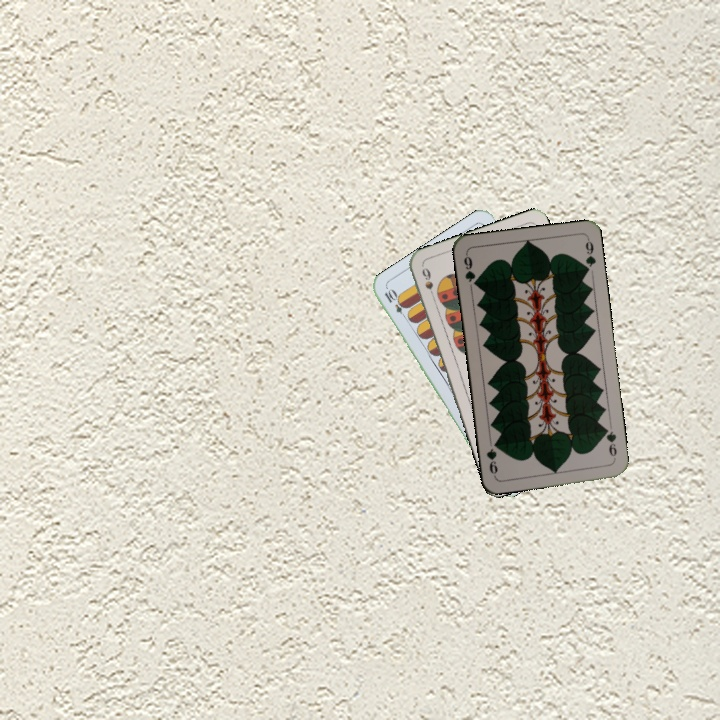E10: (380, 285, 411, 322)
G9: (460, 250, 481, 289), (600, 423, 619, 463)
S9: (418, 263, 438, 303)
